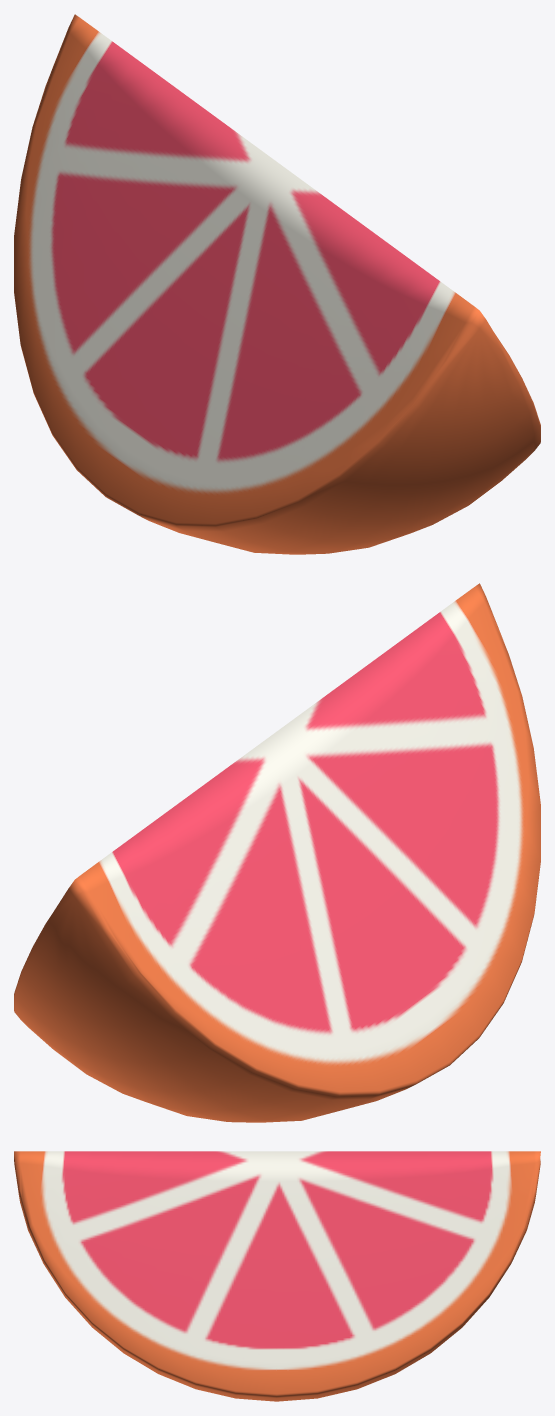
File: orange.FBX
3 views of the same model, one above another, from view 1: azimuth 30°, elevation 25°; view 2: azimuth 150°, elevation 25°; view 3: azimuth 270°, elevation 25° (orthographic). The views are drawn at different scales.
Parts seen in each view (by area): view 1: Sphere021; view 2: Sphere021; view 3: Sphere021.
Boxes of the visible parts, <box> form: Sphere021: <box>14,14,540,554</box>; Sphere021: <box>14,583,540,1122</box>; Sphere021: <box>14,1151,540,1401</box>.
Bounding box in the file's own units: 97.03 × 96.39 × 198.
